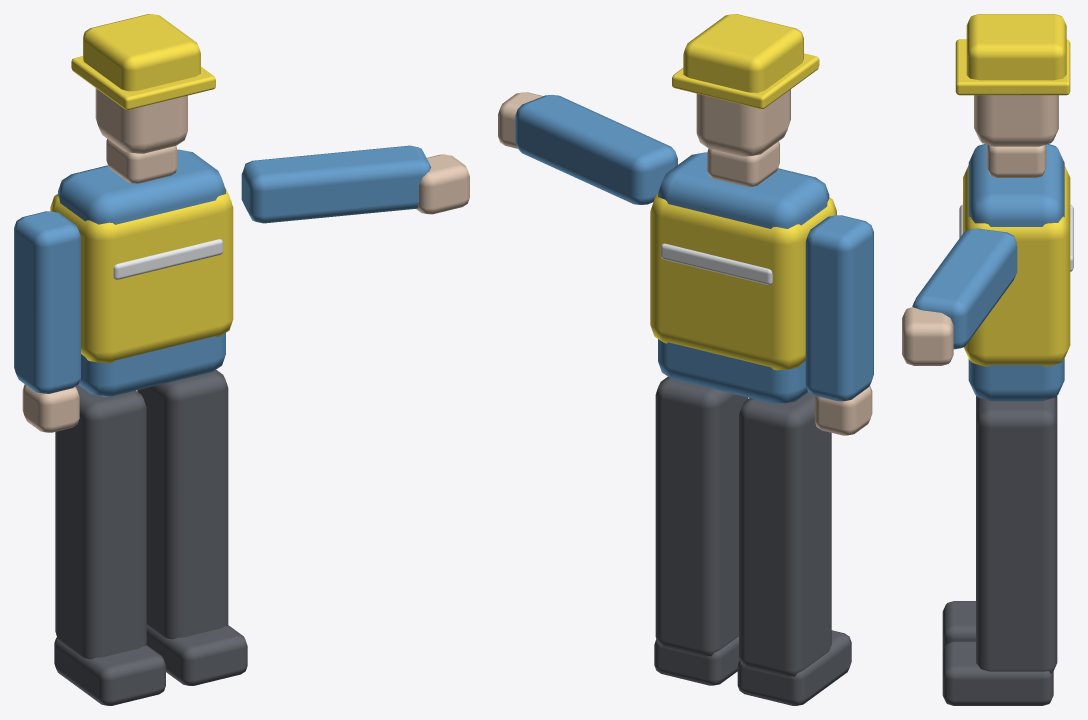
File: supervisor.glb
3 renders of one model, left to right at view 1: azimuth 30°, elevation 25°; view 2: azimuth 150°, elevation 25°; view 3: azimuth 270°, elevation 25°, orthographic.
Visible parts, largest first — view 1: supervisor-pointing; view 2: supervisor-pointing; view 3: supervisor-pointing.
Boxes of the visible parts, x1,y1,x2,y2 form: supervisor-pointing: [14, 14, 469, 705]; supervisor-pointing: [498, 14, 873, 705]; supervisor-pointing: [902, 14, 1073, 705].
Bounding box in the file's own units: 1.25 × 1.92 × 0.465.
